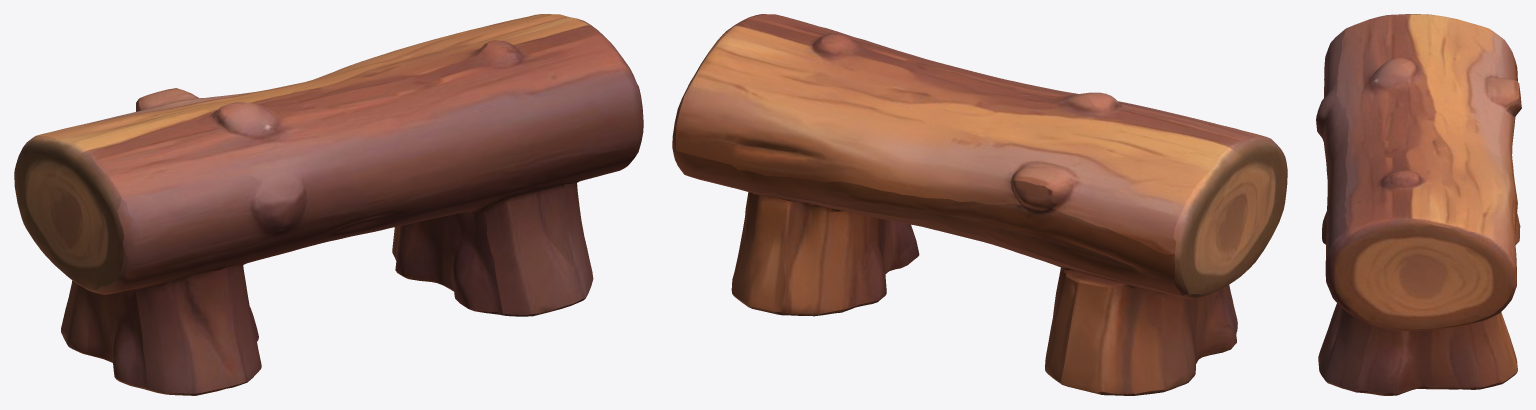
The model's file is a-rough-log-bench-made-from-a-sp-8441bc.glb.
3 renders of one model, left to right at view 1: azimuth 30°, elevation 25°; view 2: azimuth 150°, elevation 25°; view 3: azimuth 270°, elevation 25°, orthographic. The views are drawn at different scales.
Visible parts, largest first — view 1: geometry_0; view 2: geometry_0; view 3: geometry_0.
Part boxes in pixels (left/top/right/bottom): geometry_0: left=14, top=14, right=643, bottom=395; geometry_0: left=672, top=14, right=1287, bottom=395; geometry_0: left=1316, top=14, right=1521, bottom=395.
Bounding box in the file's own units: 1 × 0.4322 × 0.4073.
Materials: 1 (1 with a texture image).
